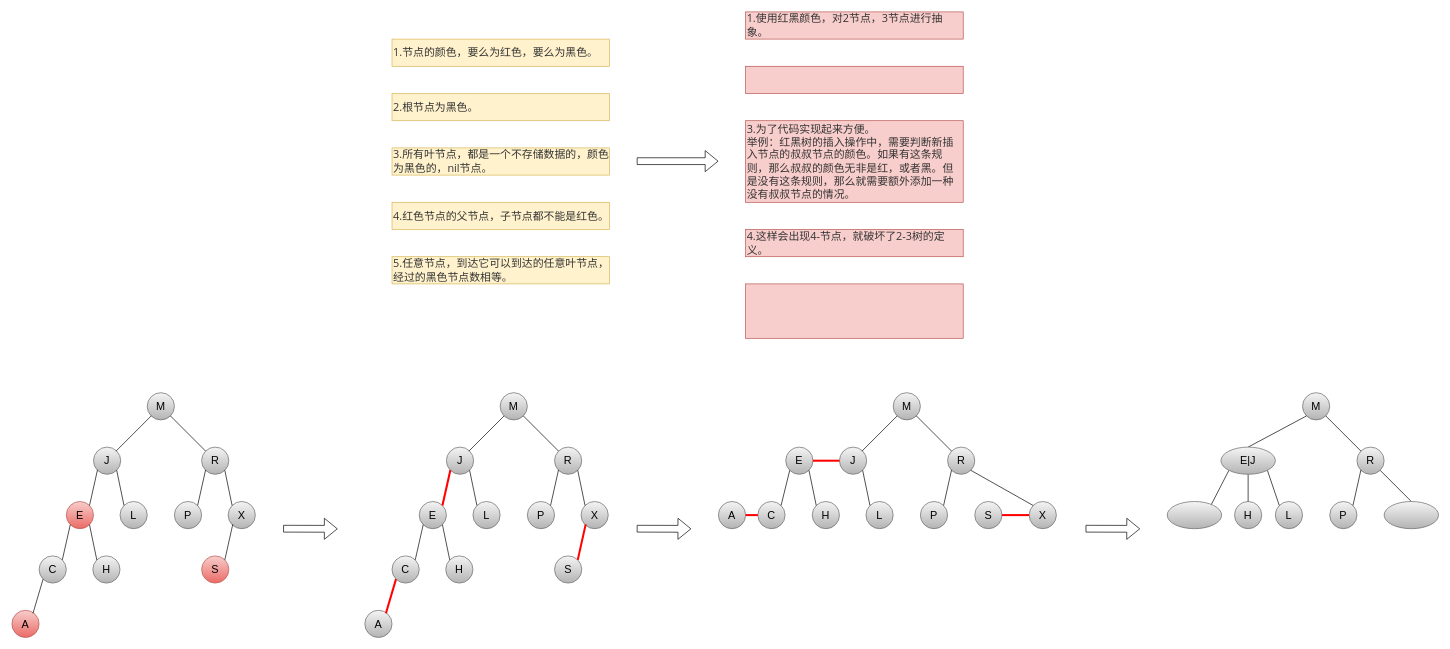
Some shapes in this 1450 by 649 pixel diagram are drawn without their labels. The centre of each missing label's shape, as x and y in pixels:
5.如果将红黑树中所有的红色链接放平，再把红色链接连接的两个节点合并为一个3-节点，那么它就是一个2-3树。2-3树中，任意叶节点到根节点的距离都是相等的。: [854,310]
A|C: [1194,515]
S|X: [1411,515]
